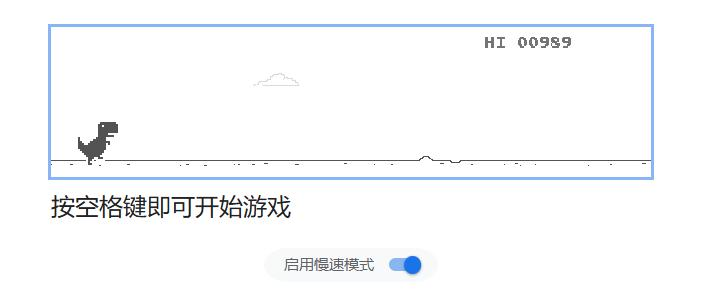dino: (75, 120, 119, 166)
